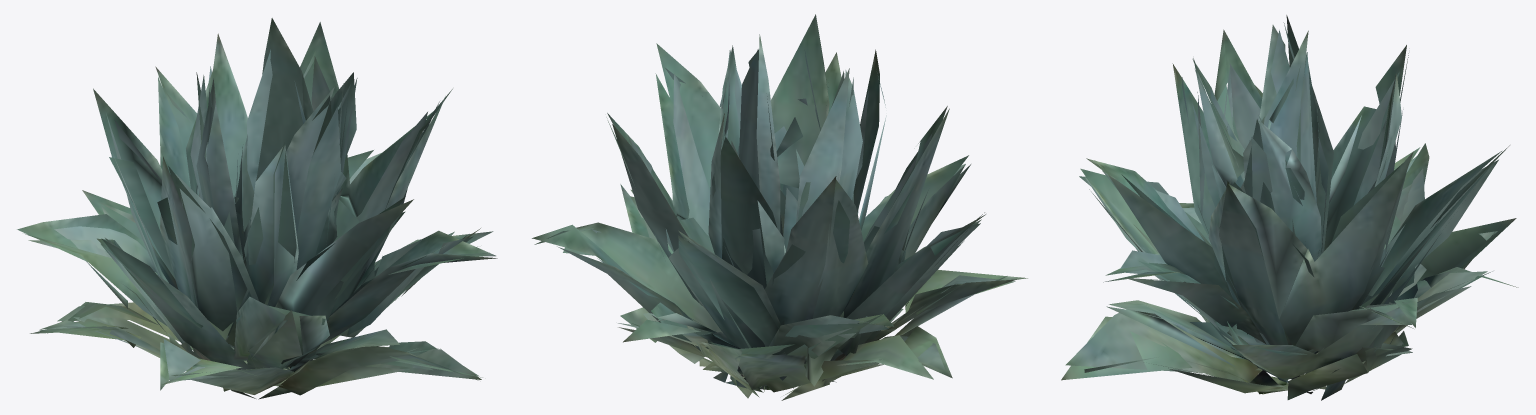
The model's file is serra_agave.glb.
The picture shows the model from 3 angles, left to right: view 1: azimuth 30°, elevation 25°; view 2: azimuth 150°, elevation 25°; view 3: azimuth 270°, elevation 25°; orthographic projection.
Parts seen in each view (by area): view 1: Prop; view 2: Prop; view 3: Prop.
Part boxes in pixels (left/top/right/bottom): Prop: left=17, top=18, right=497, bottom=399; Prop: left=532, top=14, right=1027, bottom=400; Prop: left=1061, top=15, right=1518, bottom=400.
Bounding box in the file's own units: 1.17 × 1.02 × 1.17.
1 material, 1 textured.
